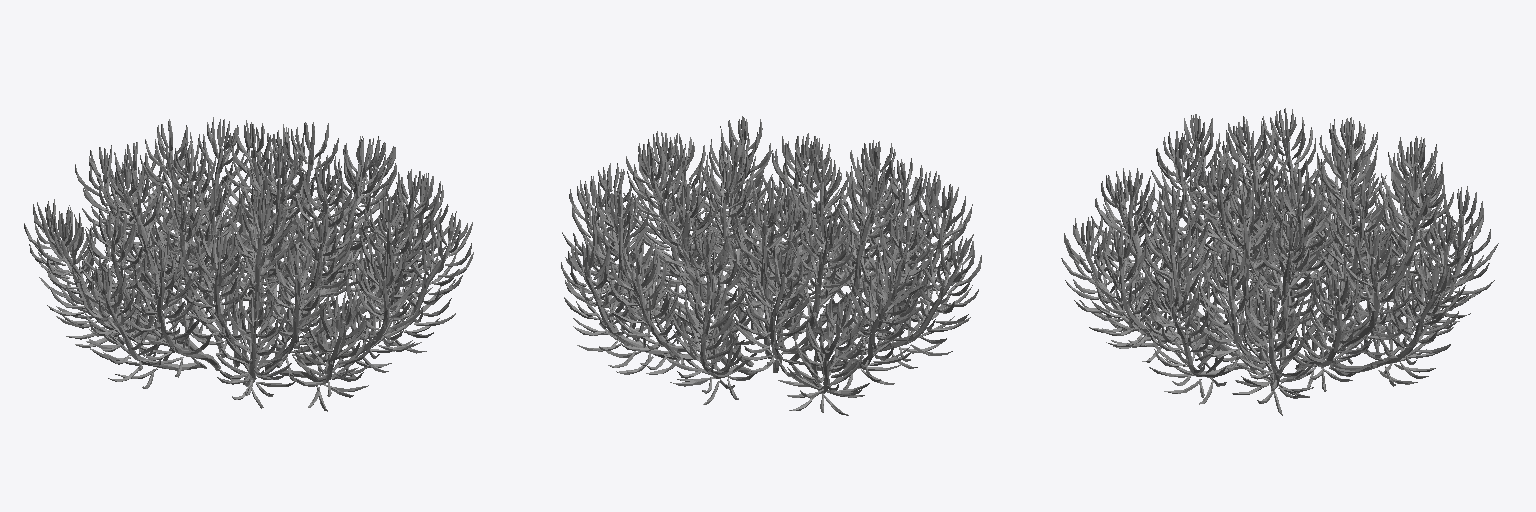
File: senecio_1.obj
3 views of the same model, side by side, from view 1: azimuth 30°, elevation 25°; view 2: azimuth 150°, elevation 25°; view 3: azimuth 270°, elevation 25° (orthographic).
Visible parts, largest first — view 1: Senecio_m__A001; view 2: Senecio_m__A001; view 3: Senecio_m__A001.
Boxes of the visible parts, x1,y1,x2,y2 form: Senecio_m__A001: [24, 117, 473, 411]; Senecio_m__A001: [561, 116, 981, 415]; Senecio_m__A001: [1061, 108, 1498, 415].
Bounding box in the file's own units: 6.58 × 3.13 × 6.6.